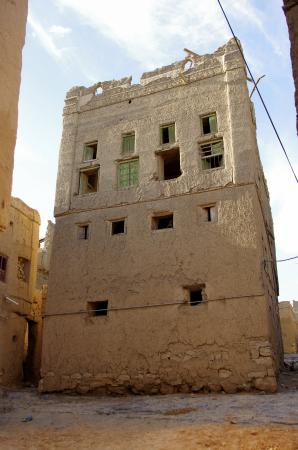Mud House: (31, 53, 276, 391)
